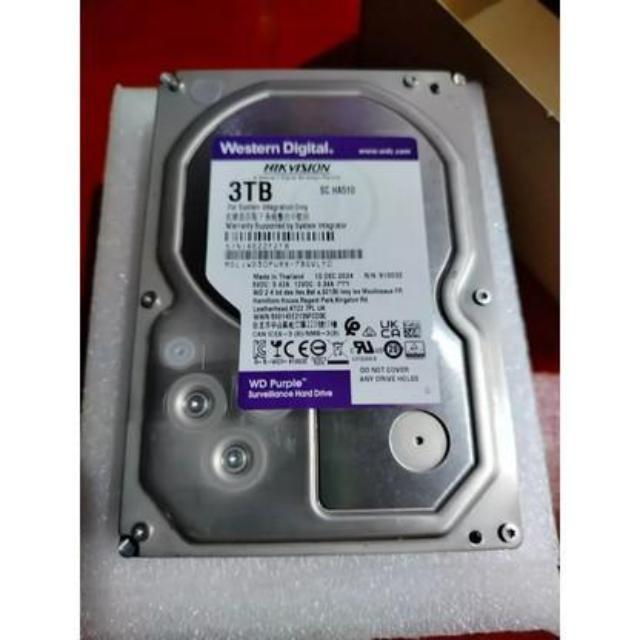DISK: (136, 67, 524, 564)
